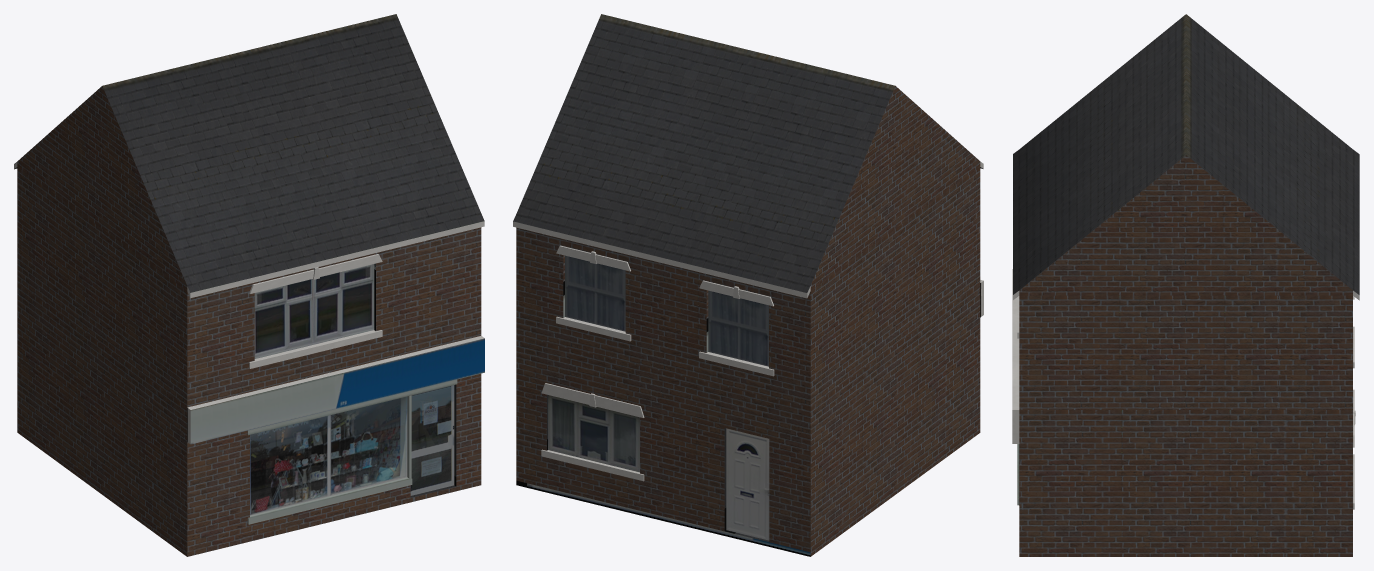
Rendered from ukcommercialnewsagent1.FBX.
3 renders of one model, left to right at view 1: azimuth 30°, elevation 25°; view 2: azimuth 150°, elevation 25°; view 3: azimuth 270°, elevation 25°, orthographic.
Parts seen in each view (by area): view 1: Box001; view 2: Box001; view 3: Box001.
Part boxes in pixels (x1,y1,x2,y2): Box001: [14, 14, 484, 556]; Box001: [513, 14, 983, 556]; Box001: [1012, 14, 1359, 556].
Size of the model in its own units: 800 by 1063 by 832.
